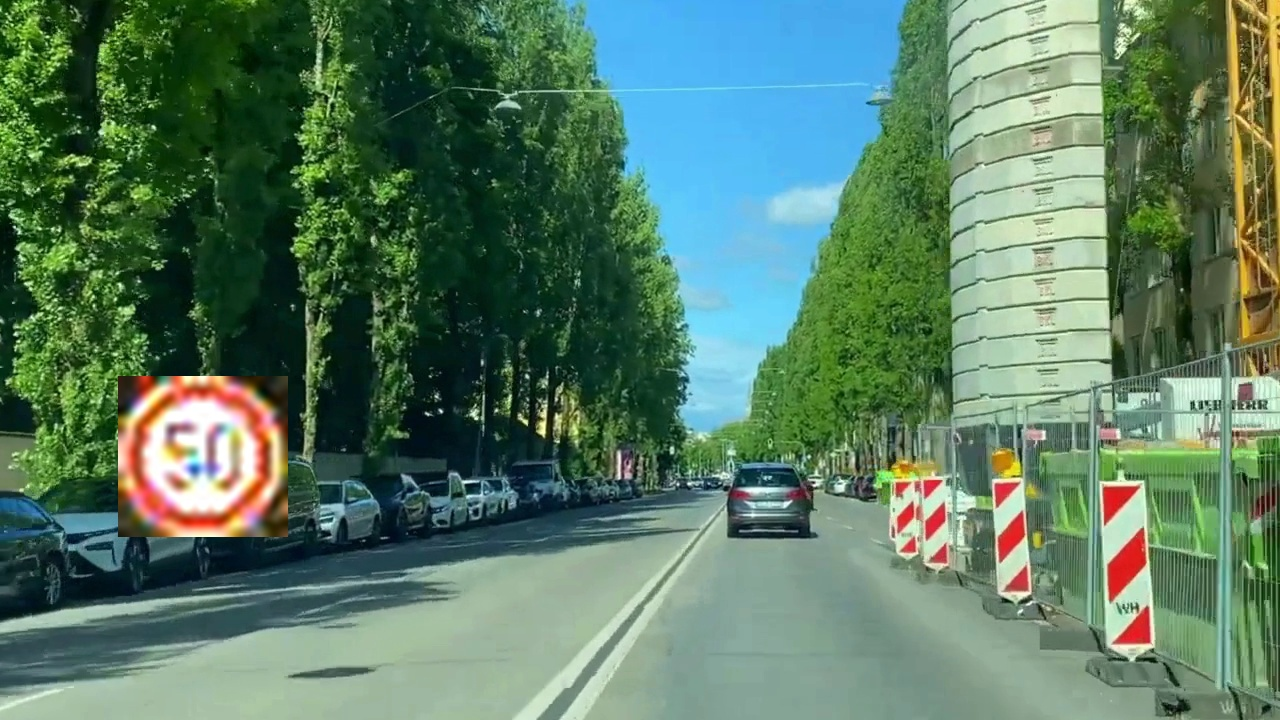Speed 50: (118, 376, 288, 537)
